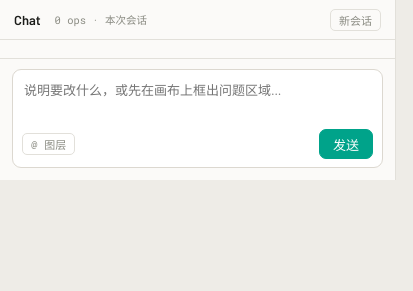
Scenario: ChatPanel › surfaces an agent failure as an error message
The image size is (413, 291).
Type "x" into the text box with placeholder "说明要改什么，或先在画布上框出问题区域…". click: (198, 98)
box: [22,78,373,118]
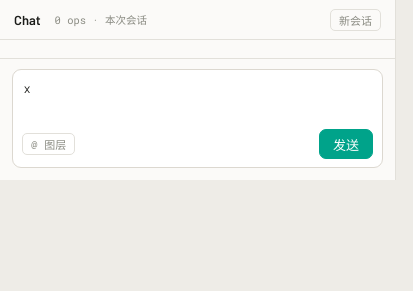
Click the button "发送". click: click(346, 144)
box: [319,129,373,159]
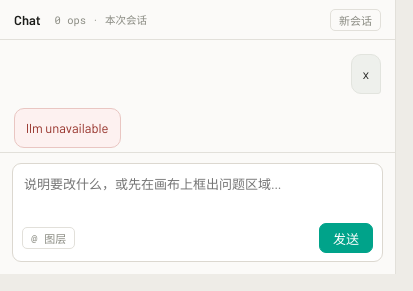
Now the text "llm unavailable" is shown, box [26,118,108,138]
